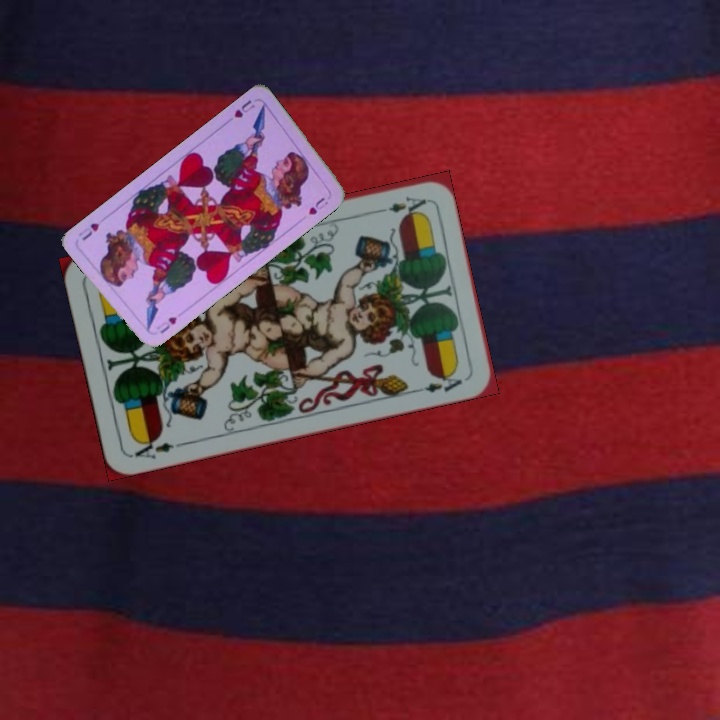EA: (128, 433, 187, 462), (370, 192, 429, 217)
HU: (230, 95, 257, 121), (153, 313, 180, 336)
